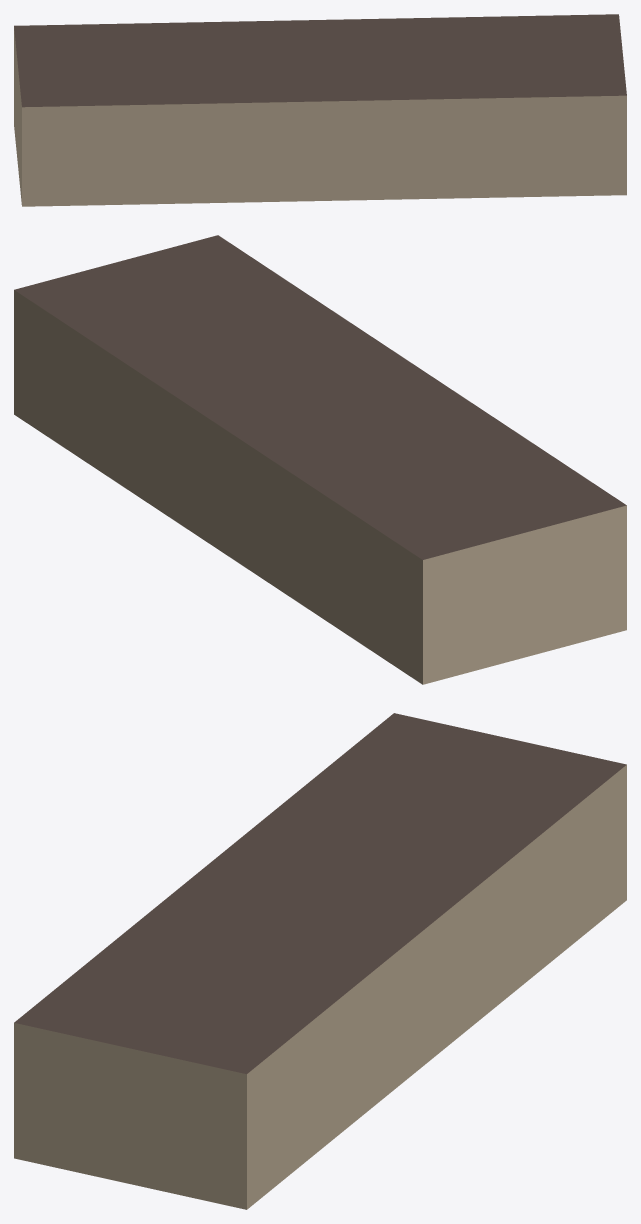
3 renders of one model, top to bottom at view 1: azimuth 30°, elevation 25°; view 2: azimuth 150°, elevation 25°; view 3: azimuth 270°, elevation 25°, orthographic. The views are drawn at different scales.
Visible parts, largest first — view 1: HP-w1286966218; view 2: HP-w1286966218; view 3: HP-w1286966218.
Boxes of the visible parts, x1,y1,x2,y2 form: HP-w1286966218: [14, 14, 626, 206]; HP-w1286966218: [14, 235, 626, 684]; HP-w1286966218: [14, 713, 626, 1209].
Size of the model in its own units: 51.39 by 9 by 36.85.
